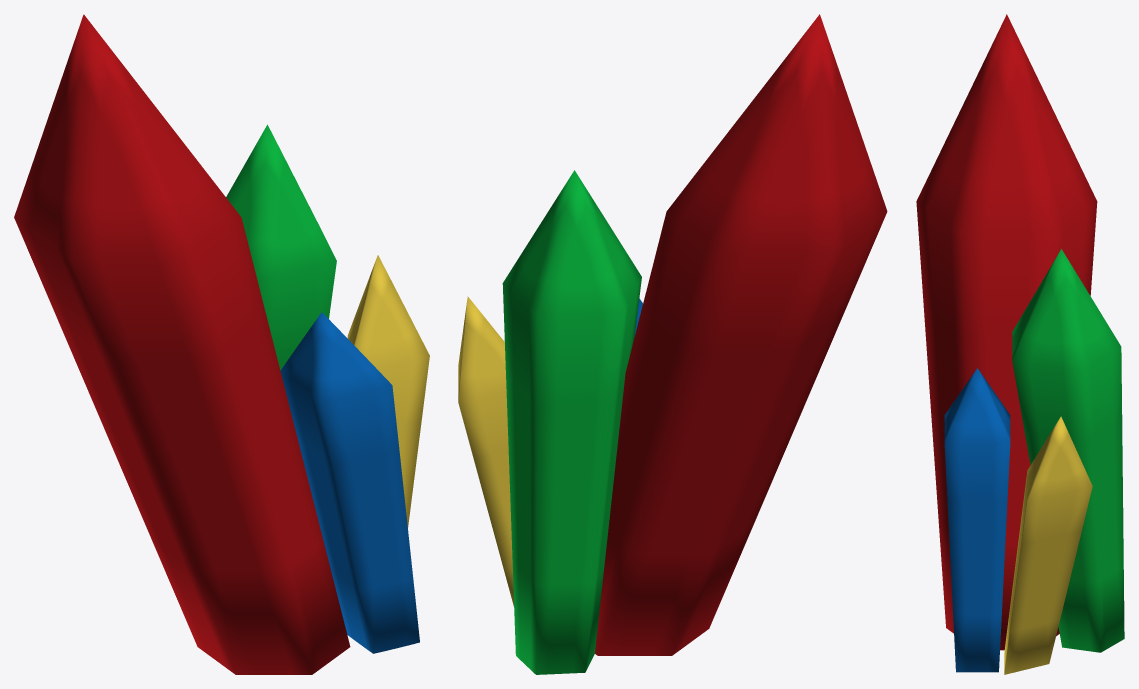
The model's file is Crystals copy.fbx.
3 views of the same model, side by side, from view 1: azimuth 30°, elevation 25°; view 2: azimuth 150°, elevation 25°; view 3: azimuth 270°, elevation 25° (orthographic). The views are drawn at different scales.
Parts seen in each view (by area): view 1: Red Crystal, Blue Crystal, Green Crystal, Yellow Crystal; view 2: Red Crystal, Green Crystal, Yellow Crystal; view 3: Red Crystal, Green Crystal, Blue Crystal, Yellow Crystal.
Boxes of the visible parts, x1,y1,x2,y2 form: Red Crystal: (14, 14, 350, 674); Blue Crystal: (280, 312, 419, 653); Green Crystal: (226, 124, 336, 370); Yellow Crystal: (347, 255, 429, 527); Red Crystal: (595, 14, 887, 655); Green Crystal: (502, 170, 641, 674); Yellow Crystal: (458, 296, 514, 607); Red Crystal: (916, 14, 1097, 650); Green Crystal: (1012, 249, 1124, 652); Blue Crystal: (944, 368, 1010, 672); Yellow Crystal: (1004, 416, 1092, 674).
Size of the model in its own units: 1241 by 2013 by 703.
